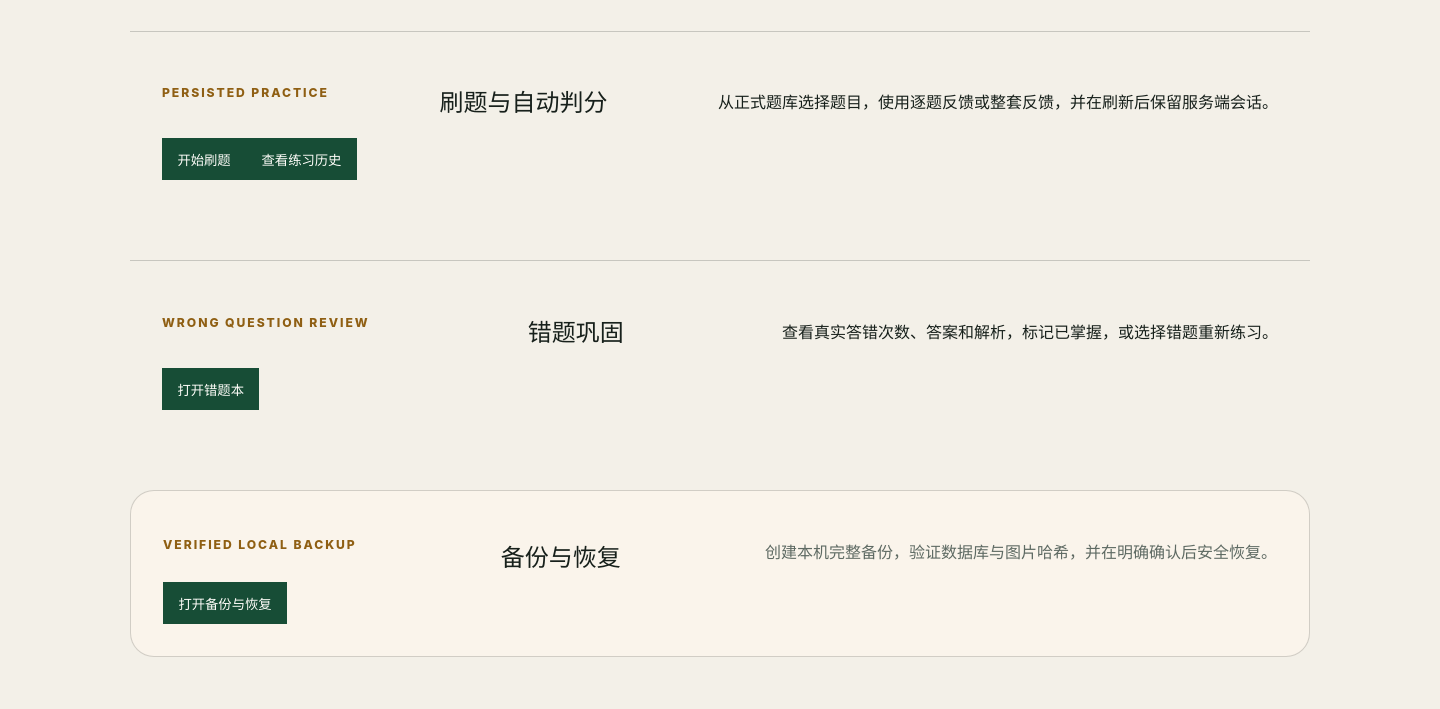
Scenario: 应用壳 › 把错题本选择的 UUID 交给真实刷题设置
The image size is (1440, 709).
(page scrolled)
Click the button "打开错题本": (211, 389) [162, 368, 259, 410]
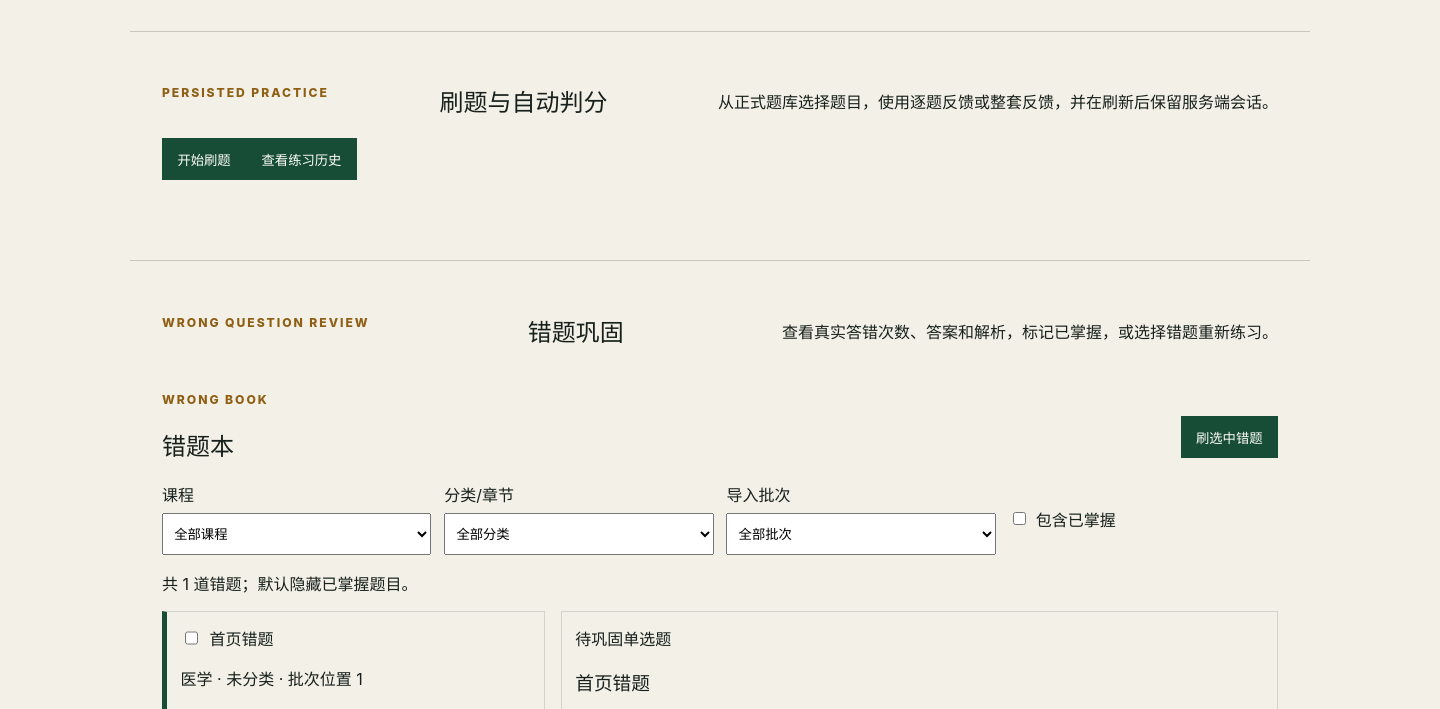
Click the checkbox labelled "首页错题": (191, 638) [185, 629, 198, 647]
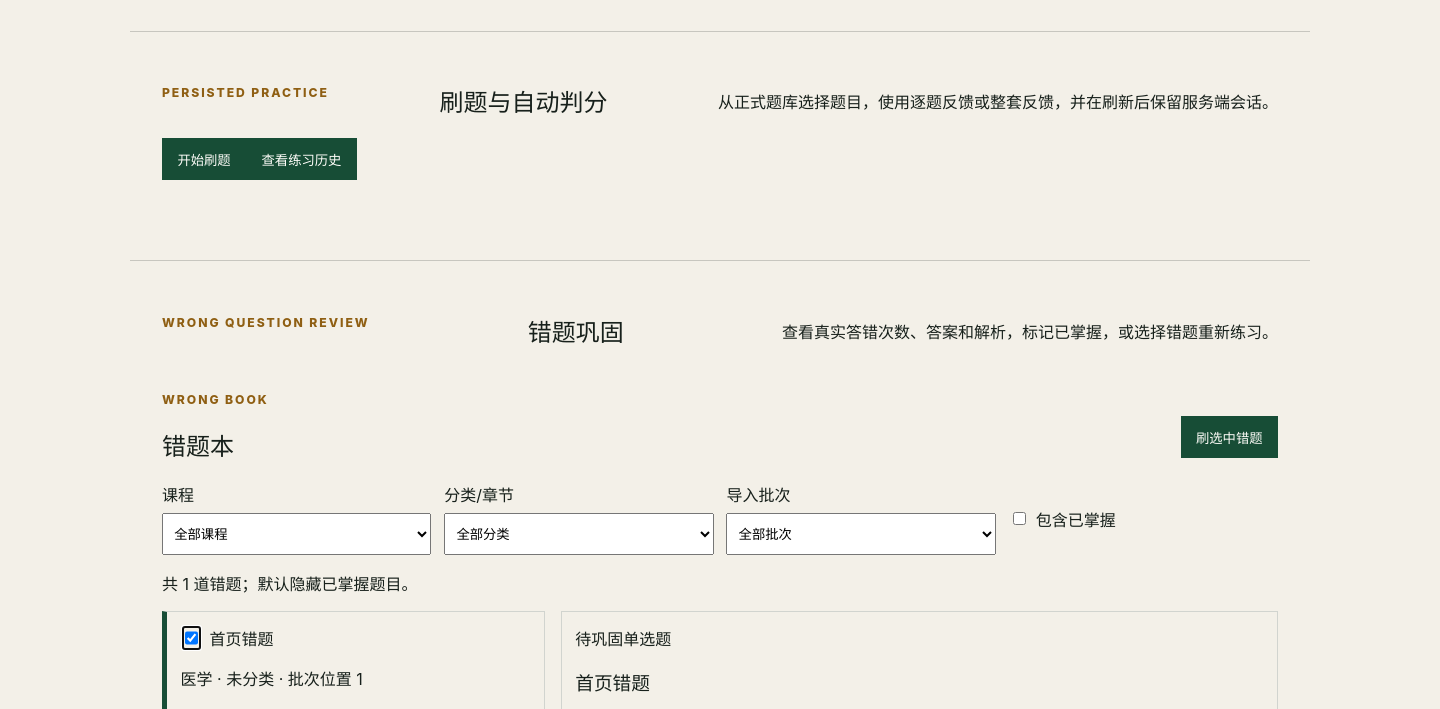
Click the button "刷选中错题": (1229, 437) [1181, 416, 1278, 458]
(page scrolled)
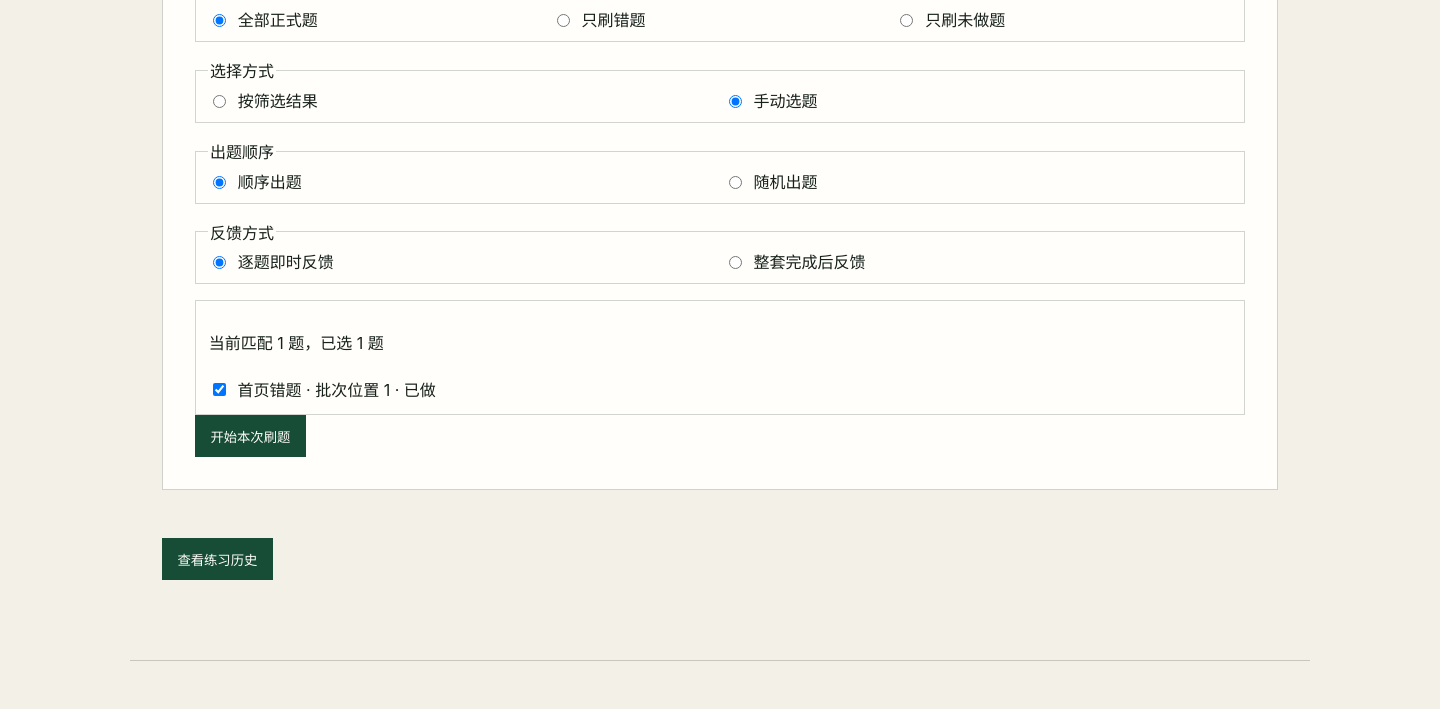
Expected: the checkbox labelled "首页错题 · 批次位置 1 · 已做" is checked, [213, 383, 226, 396]
